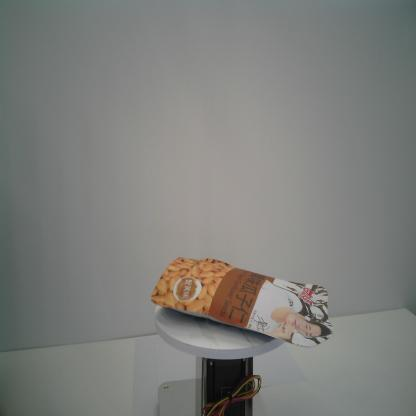Dried Fruit: (151, 257, 334, 348)
